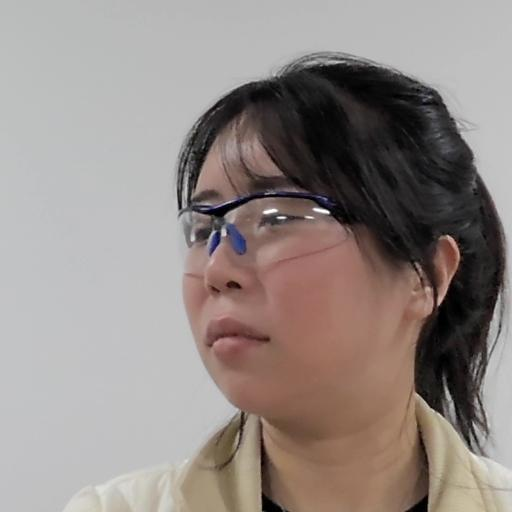glasses: (169, 61, 512, 422)
